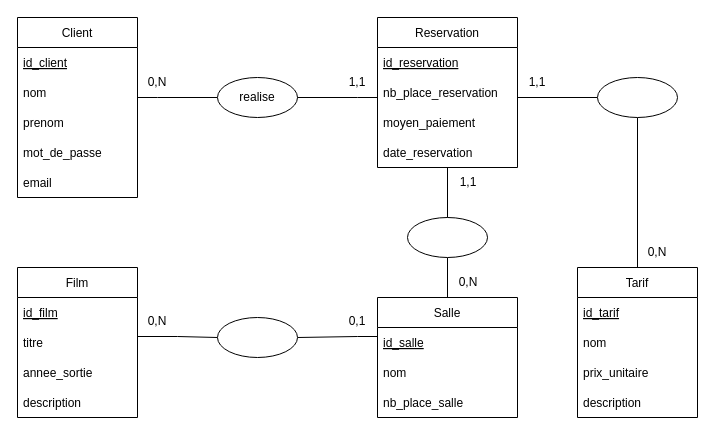
Some shapes in this 715 by 435 pixel diagram are drawn without their labels. Here are the shapes that lost their labels. From the top down, the centre of each, then its label:
At point 637,97: "concerne".
At point 447,237: "correspond".
At point 257,337: "projete".
